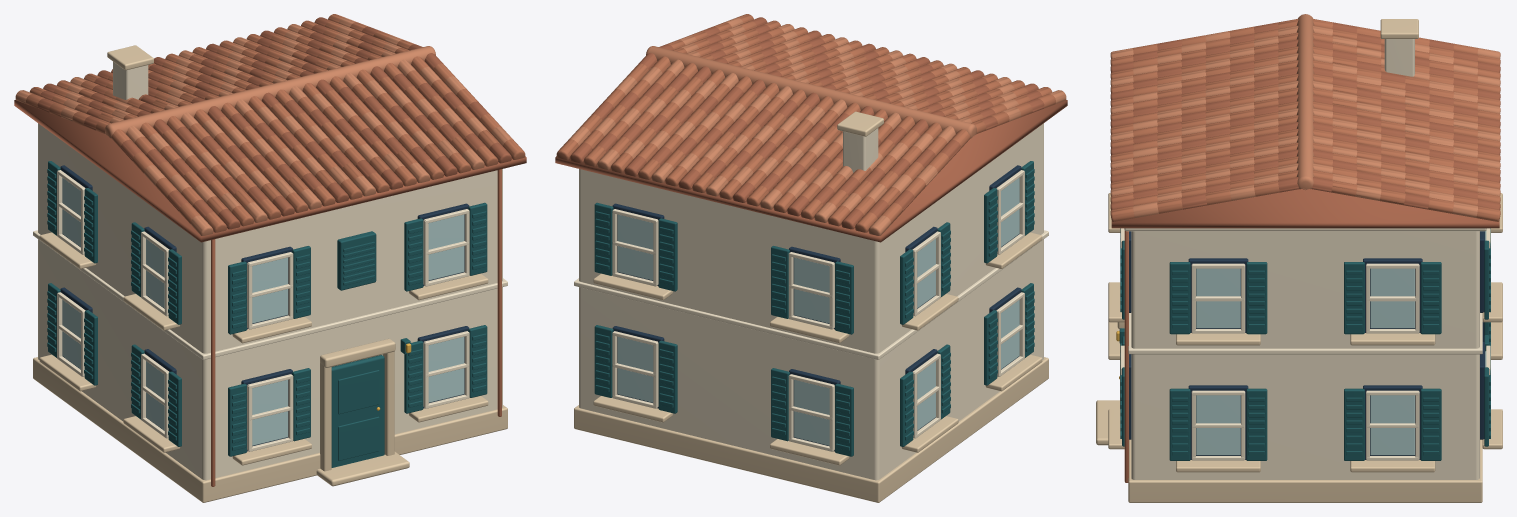
The model's file is KKTC_House_4.fbx.
3 views of the same model, side by side, from view 1: azimuth 30°, elevation 25°; view 2: azimuth 150°, elevation 25°; view 3: azimuth 270°, elevation 25° (orthographic). The views are drawn at different scales.
Visible parts, largest first — view 1: HouseVolume_YY_cream.003, HouseVolume_YY_roofClay.003, HouseVolume_YY_tealDark.003, HouseVolume_YY_roofClayDark.003, HouseVolume_YY_stone.003, HouseVolume_YY_roofClayLight.003, HouseVolume_YY_glass.003, HouseVolume_YY_navy.003, HouseVolume_YY_terracotta.003; view 2: HouseVolume_YY_cream.003, HouseVolume_YY_roofClay.003, HouseVolume_YY_roofClayDark.003, HouseVolume_YY_roofClayLight.003, HouseVolume_YY_stone.003, HouseVolume_YY_tealDark.003, HouseVolume_YY_glass.003, HouseVolume_YY_navy.003; view 3: HouseVolume_YY_cream.003, HouseVolume_YY_roofClay.003, HouseVolume_YY_roofClayDark.003, HouseVolume_YY_roofClayLight.003, HouseVolume_YY_stone.003, HouseVolume_YY_tealDark.003, HouseVolume_YY_glass.003, HouseVolume_YY_navy.003, HouseVolume_YY_terracotta.003.
Boxes of the visible parts, left/top/right/bottom form: HouseVolume_YY_cream.003: left=33, top=61, right=507, bottom=480; HouseVolume_YY_roofClay.003: left=26, top=14, right=525, bottom=232; HouseVolume_YY_tealDark.003: left=47, top=161, right=487, bottom=467; HouseVolume_YY_roofClayDark.003: left=14, top=17, right=526, bottom=242; HouseVolume_YY_stone.003: left=33, top=45, right=507, bottom=502; HouseVolume_YY_roofClayLight.003: left=15, top=18, right=513, bottom=235; HouseVolume_YY_glass.003: left=62, top=177, right=464, bottom=445; HouseVolume_YY_navy.003: left=60, top=165, right=469, bottom=451; HouseVolume_YY_terracotta.003: left=211, top=169, right=501, bottom=486; HouseVolume_YY_cream.003: left=574, top=123, right=1048, bottom=480; HouseVolume_YY_roofClay.003: left=556, top=14, right=1055, bottom=232; HouseVolume_YY_roofClayDark.003: left=555, top=17, right=1067, bottom=242; HouseVolume_YY_roofClayLight.003: left=568, top=18, right=1066, bottom=235; HouseVolume_YY_stone.003: left=574, top=111, right=1048, bottom=502; HouseVolume_YY_tealDark.003: left=594, top=161, right=1034, bottom=456; HouseVolume_YY_glass.003: left=617, top=177, right=1019, bottom=445; HouseVolume_YY_navy.003: left=612, top=165, right=1021, bottom=451; HouseVolume_YY_cream.003: left=1120, top=39, right=1490, bottom=479; HouseVolume_YY_roofClay.003: left=1110, top=19, right=1500, bottom=221; HouseVolume_YY_roofClayDark.003: left=1110, top=22, right=1500, bottom=228; HouseVolume_YY_roofClayLight.003: left=1110, top=14, right=1500, bottom=217; HouseVolume_YY_stone.003: left=1096, top=19, right=1502, bottom=502; HouseVolume_YY_tealDark.003: left=1119, top=228, right=1490, bottom=460; HouseVolume_YY_glass.003: left=1196, top=231, right=1486, bottom=455; HouseVolume_YY_navy.003: left=1129, top=231, right=1484, bottom=459; HouseVolume_YY_terracotta.003: left=1124, top=230, right=1128, bottom=482.
Bounding box in the file's own units: 698 × 669 × 700.
